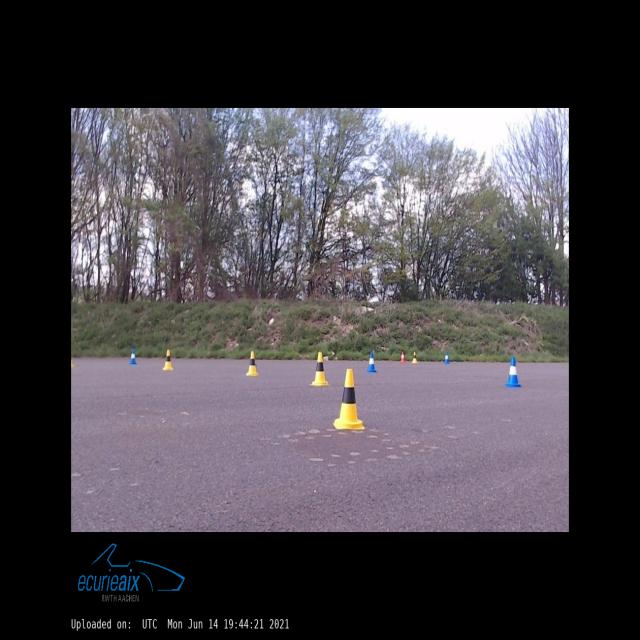blue_cone: (506, 358, 521, 387), (367, 352, 377, 372), (130, 349, 137, 364), (444, 352, 450, 364)
orange_cone: (400, 352, 406, 362)
yellow_cone: (333, 370, 365, 430), (310, 352, 329, 386), (246, 352, 259, 376), (163, 350, 173, 370), (412, 352, 418, 363), (71, 357, 73, 367)
